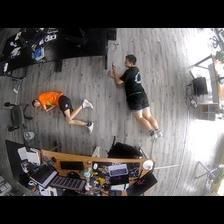fall: (109, 53, 165, 139), (31, 90, 97, 133)
